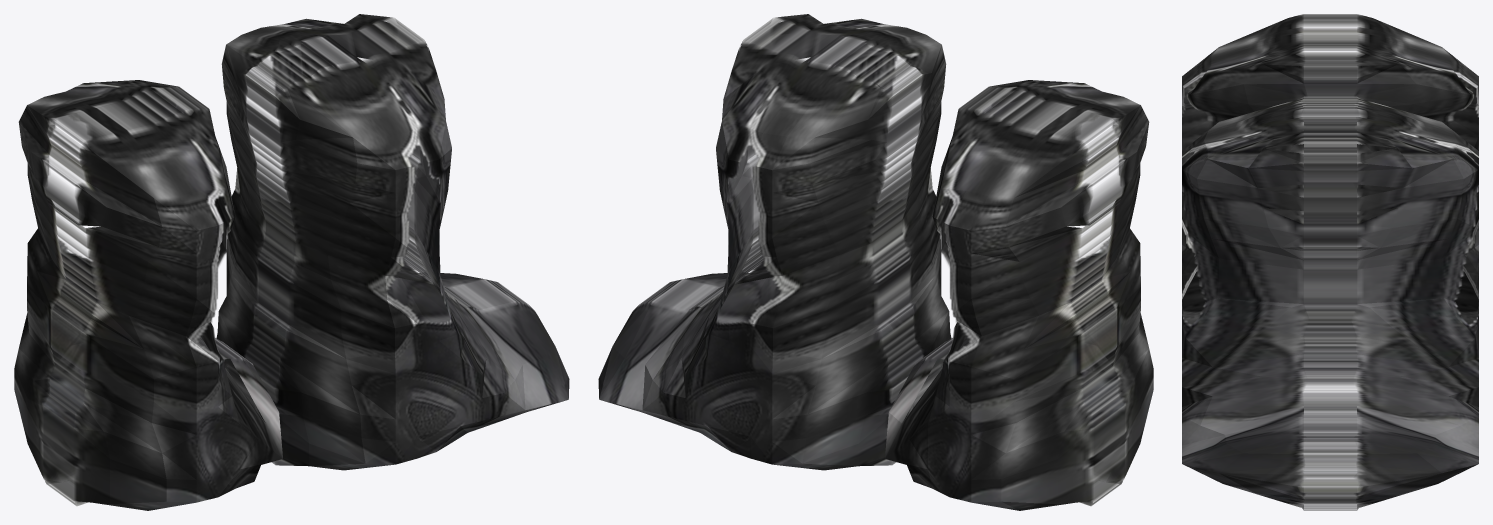
Rendered from dainese-vector-adventure-boot-128.glb.
3 renders of one model, left to right at view 1: azimuth 30°, elevation 25°; view 2: azimuth 150°, elevation 25°; view 3: azimuth 270°, elevation 25°, orthographic. The views are drawn at different scales.
Parts seen in each view (by area): view 1: world; view 2: world; view 3: world.
Boxes of the visible parts, x1=… form: world: x1=14, y1=14, x2=569, y2=510; world: x1=598, y1=14, x2=1153, y2=510; world: x1=1182, y1=14, x2=1478, y2=510.
Size of the model in its own units: 1 by 0.7951 by 0.62.
Materials: 1 (1 with a texture image).
